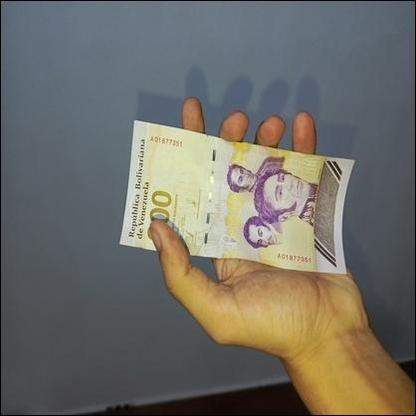vef_front: (118, 118, 356, 274)
